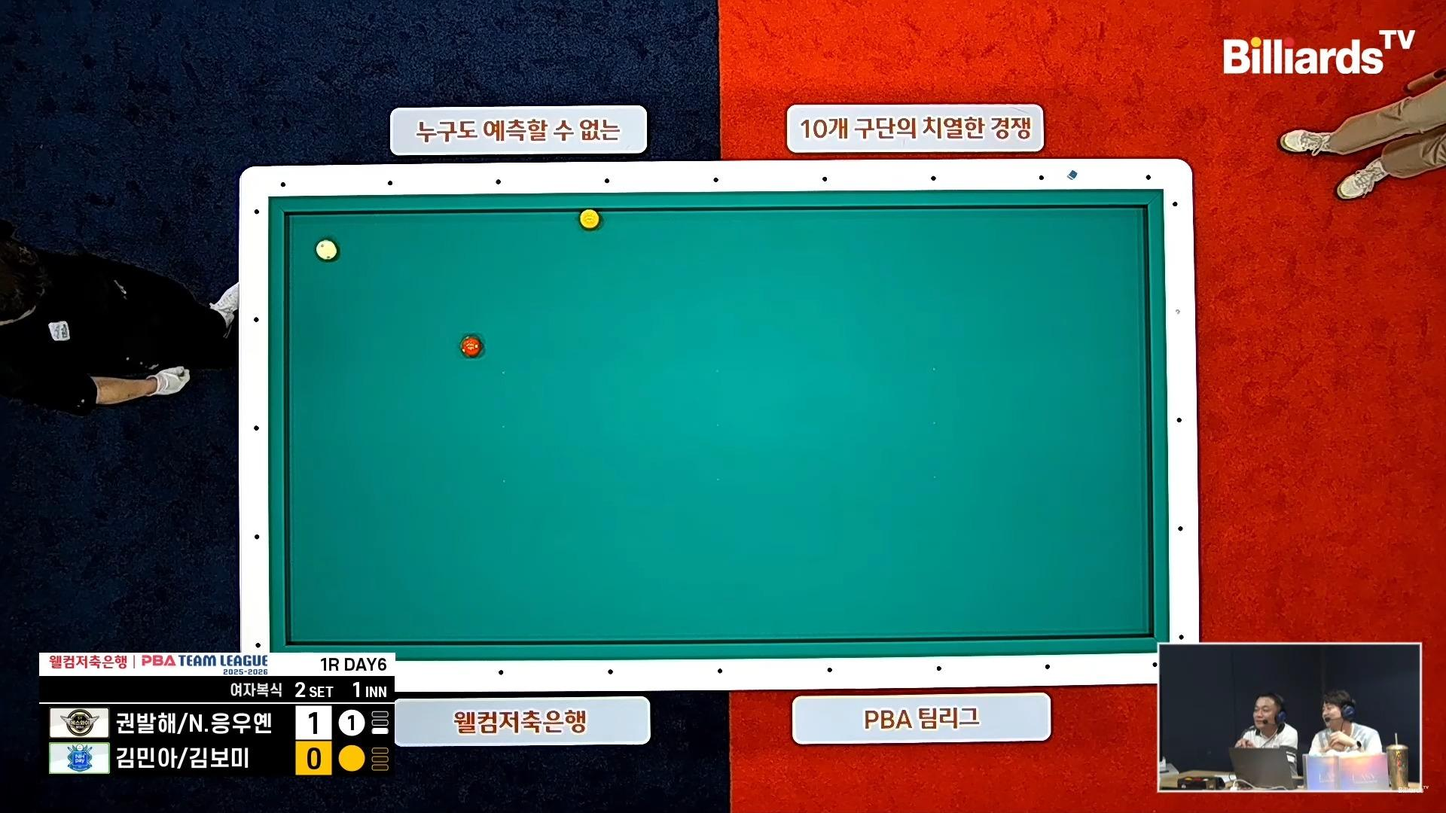billiard-ball-Red: (458, 331, 482, 359)
billiard-ball-Yellow: (576, 209, 604, 230)
billiard-ball-white: (316, 234, 338, 263)
